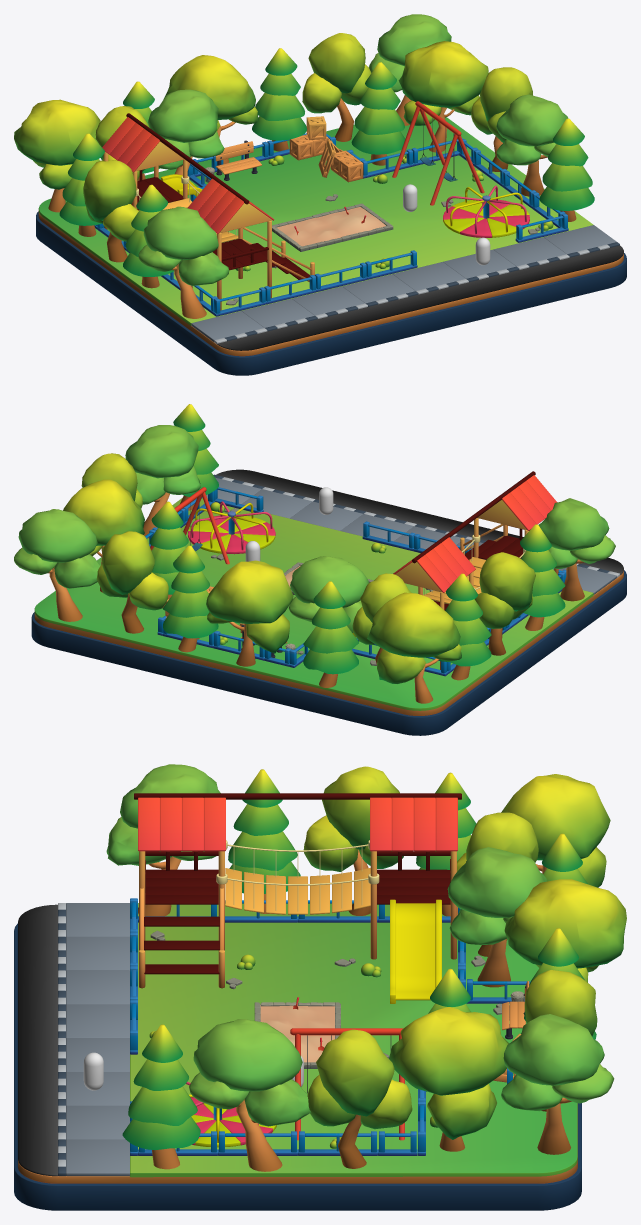
Rendered from playground2.fbx.
3 views of the same model, one above another, from view 1: azimuth 30°, elevation 25°; view 2: azimuth 150°, elevation 25°; view 3: azimuth 270°, elevation 25° (orthographic). The views are drawn at different scales.
Visible parts, largest first — view 1: Plane.001, Cube, Plane.002, Sphere.015, Sphere.005, Cube.025, Sphere.009, Sphere.013, Sphere.012, Sphere.003, Sphere.006, Sphere.016 (+27 smaller); view 2: Plane.001, Sphere.009, Sphere.016, Sphere.017, Cube.025, Cube, Sphere.012, Sphere.013, Sphere.015, Sphere.006, Plane.002, Sphere.014 (+19 smaller); view 3: Plane.001, Cube, Cube.025, Sphere.005, Sphere.012, Plane.002, Sphere.017, Sphere.011, Cube.028, Sphere.016, Sphere.003, Sphere.004 (+25 smaller).
Boxes of the visible parts, x1,y1,x2,y2 form: Plane.001: (36,117,626,375); Cube: (191,225,616,341); Plane.002: (217,245,623,350); Sphere.015: (138,206,229,318); Sphere.005: (398,41,488,152); Cube.025: (102,113,274,233); Sphere.009: (14,99,100,212); Sphere.013: (302,33,371,141); Sphere.012: (496,94,568,196); Sphere.003: (148,89,224,201); Sphere.006: (83,160,138,262); Sphere.016: (163,55,258,164); Plane.001: (31,498,626,735); Sphere.009: (367,592,461,703); Sphere.016: (206,560,293,666); Sphere.017: (14,509,100,621); Cube.025: (393,471,557,592); Cube: (206,477,616,594); Sphere.012: (125,425,200,538); Sphere.013: (96,531,168,633); Sphere.015: (538,498,615,601); Sphere.006: (474,552,535,655); Plane.002: (216,469,623,575); Sphere.014: (303,581,358,687); Plane.001: (14,903,581,1210); Cube: (66,903,129,1176); Cube.025: (134,793,461,851); Sphere.005: (389,1007,508,1151); Sphere.012: (189,1019,311,1171); Plane.002: (18,904,57,1176); Sphere.017: (501,1014,614,1154); Sphere.011: (307,1029,412,1168); Cube.028: (139,851,456,959); Sphere.016: (504,879,626,982); Sphere.003: (447,847,546,987); Sphere.004: (122,1024,200,1169).
Size of the model in its own units: 1802 by 508 by 1533.
1 material, 1 textured.
